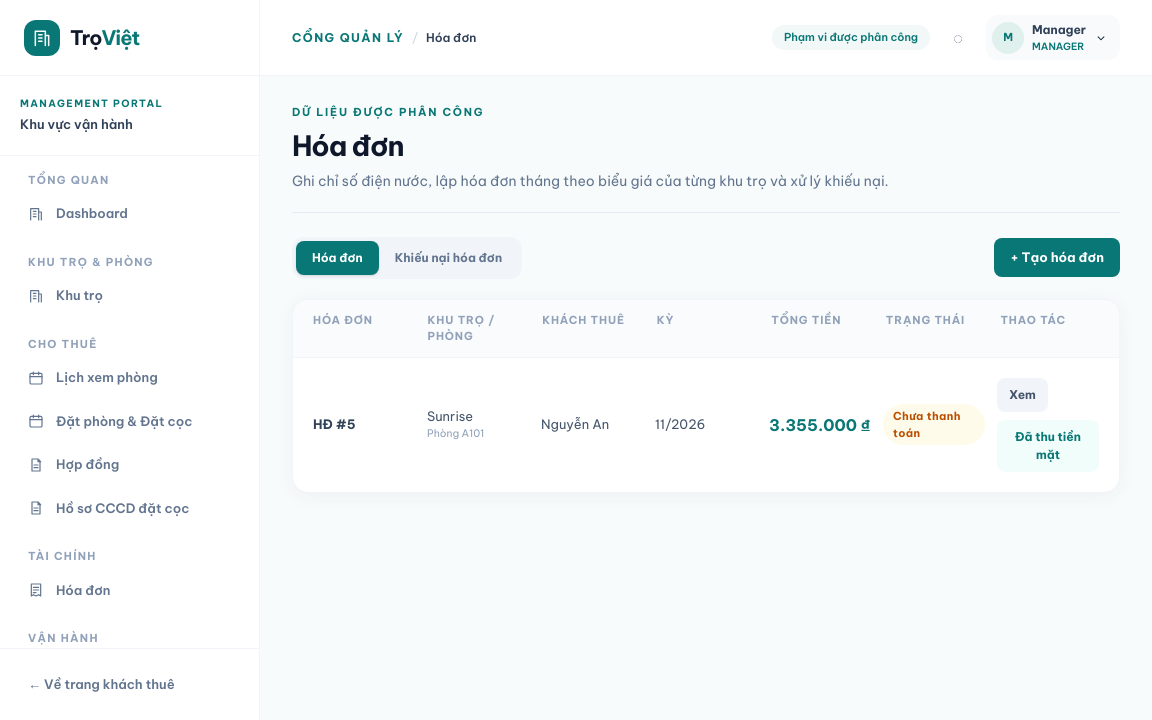
Scenario: ManagementInvoicesPage › refreshes invoices after B10 rejects cash because online may have won
Click the button "Đã thu tiền mặt": click(1048, 446) [997, 420, 1099, 472]
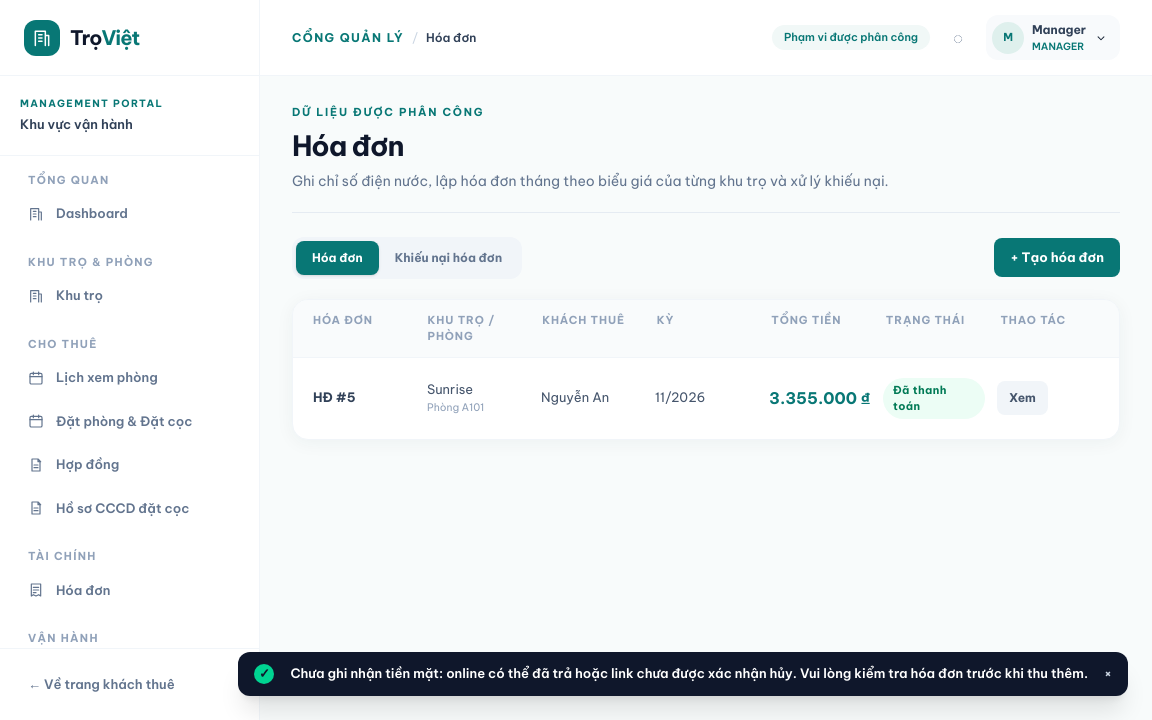
Check: the text "Chưa ghi nhận tiền mặt: online có thể đã trả" is shown, box [290, 665, 1088, 681]
Check: the text "Đã thanh toán" is shown, box [883, 378, 985, 418]
